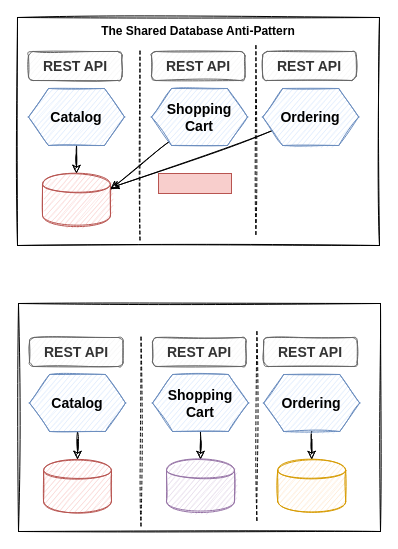
Image size: 398x549. Some labels were removed from this diagram. The shapes that lost their labels are listed below. From the top down, each one's box as (x1, y1, x2, y2) in pixels, then its label:
(42, 172, 110, 226): DB
(158, 172, 232, 194): Anti-Pattern
(18, 302, 380, 532): Polyglot Persistence
(42, 458, 112, 512): NO-SQL Document
(166, 458, 234, 512): NO-SQL Key Value
(277, 458, 346, 512): RDBMS
